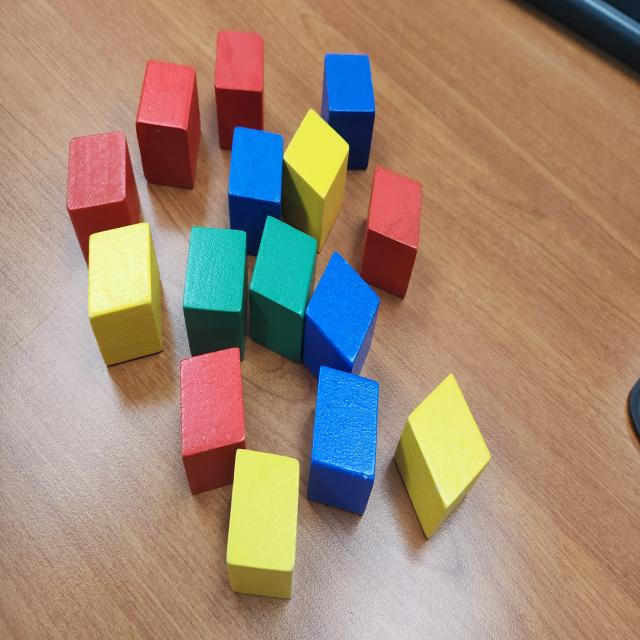blue: (305, 365, 379, 516), (300, 251, 381, 384), (227, 127, 286, 258), (319, 54, 376, 172)
green: (246, 219, 318, 364), (182, 226, 246, 363)
red: (65, 132, 141, 268), (179, 346, 246, 496), (136, 58, 204, 192), (357, 166, 423, 300), (214, 30, 265, 151)
yellow: (394, 373, 491, 538), (87, 222, 165, 367), (226, 449, 300, 601), (282, 107, 349, 245)
